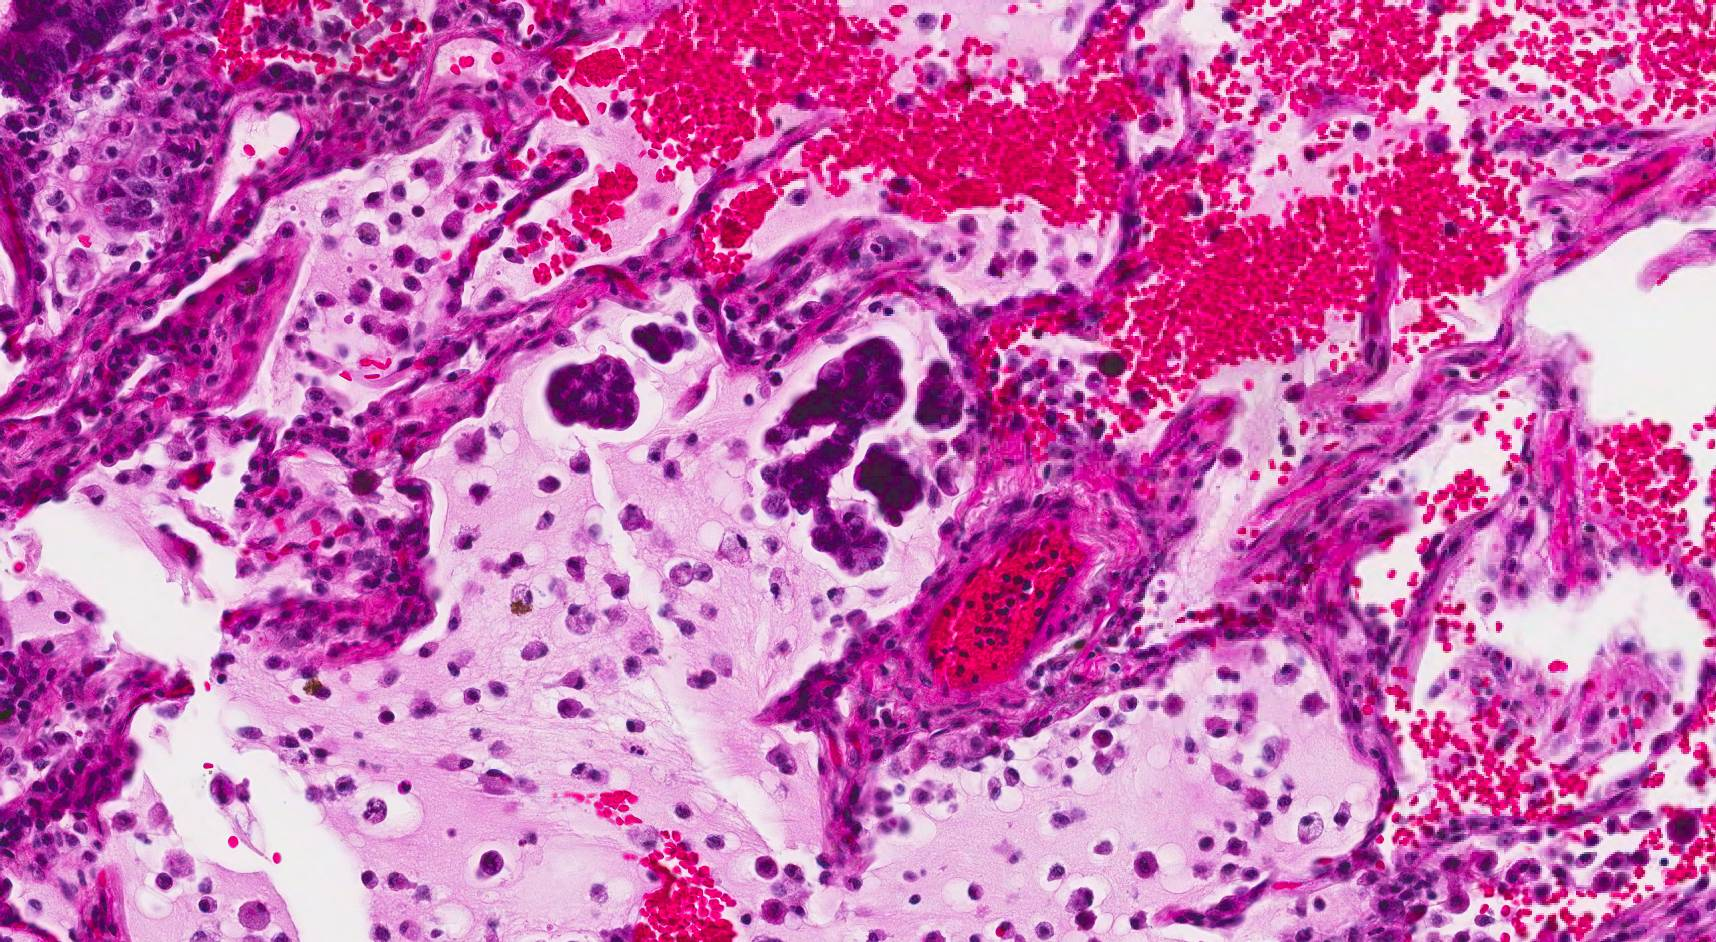stas: (760, 338, 912, 580), (542, 356, 641, 438), (853, 441, 925, 527), (914, 357, 965, 434), (632, 322, 698, 370)
